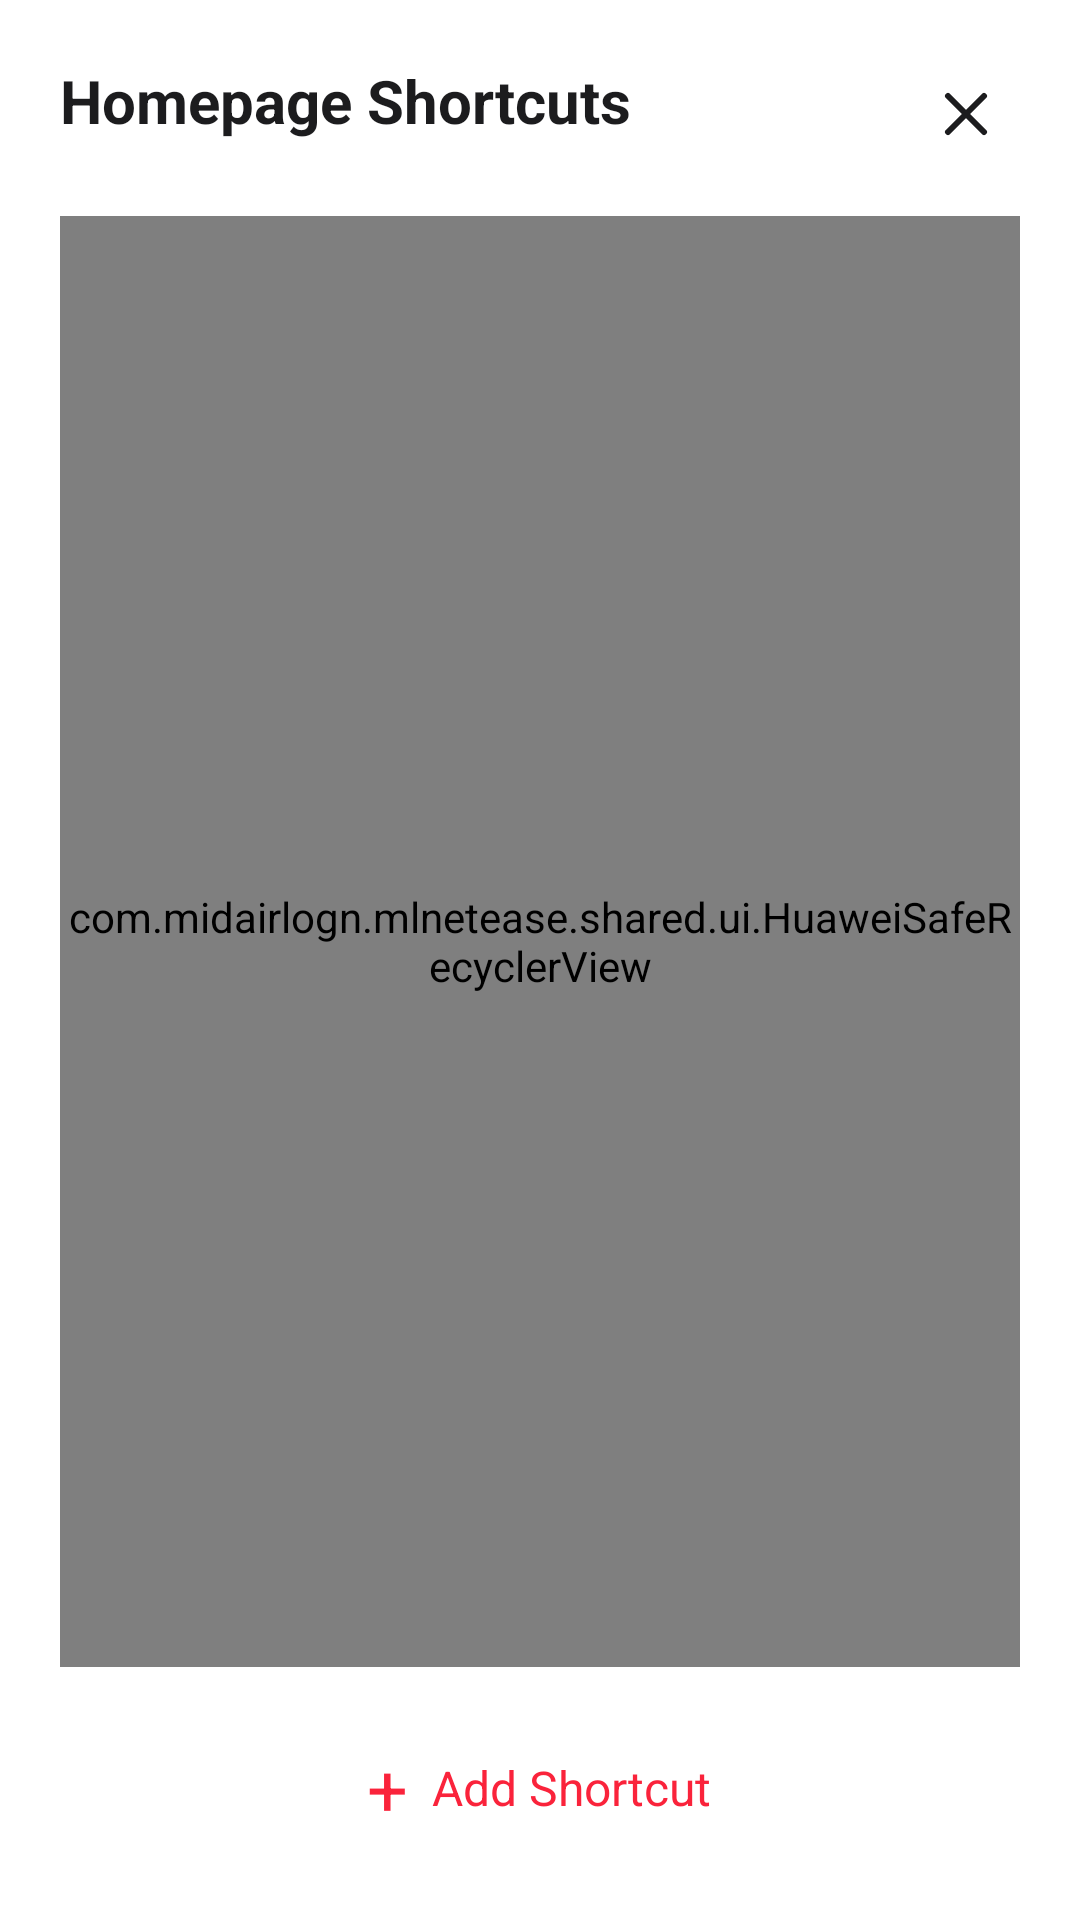

Icon bounding boxes for this 1080x1920 phone screenshot, format (x1, y1, x2, y2):
Close: (945, 93, 987, 135)
